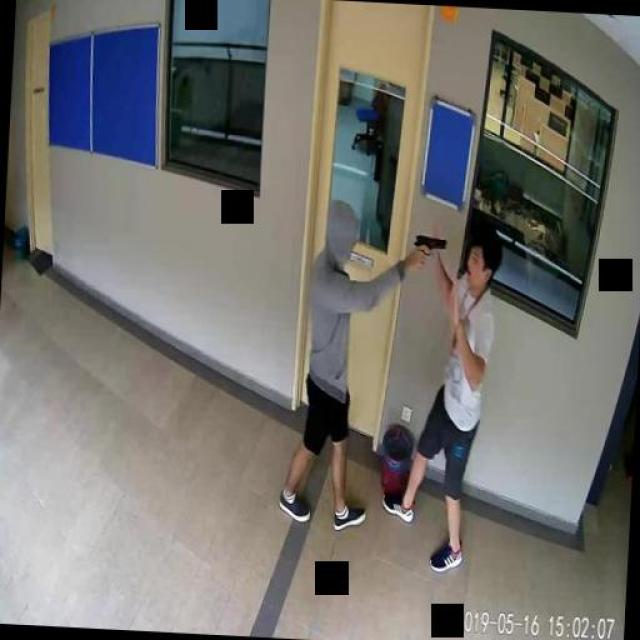gun: (414, 234, 446, 268)
